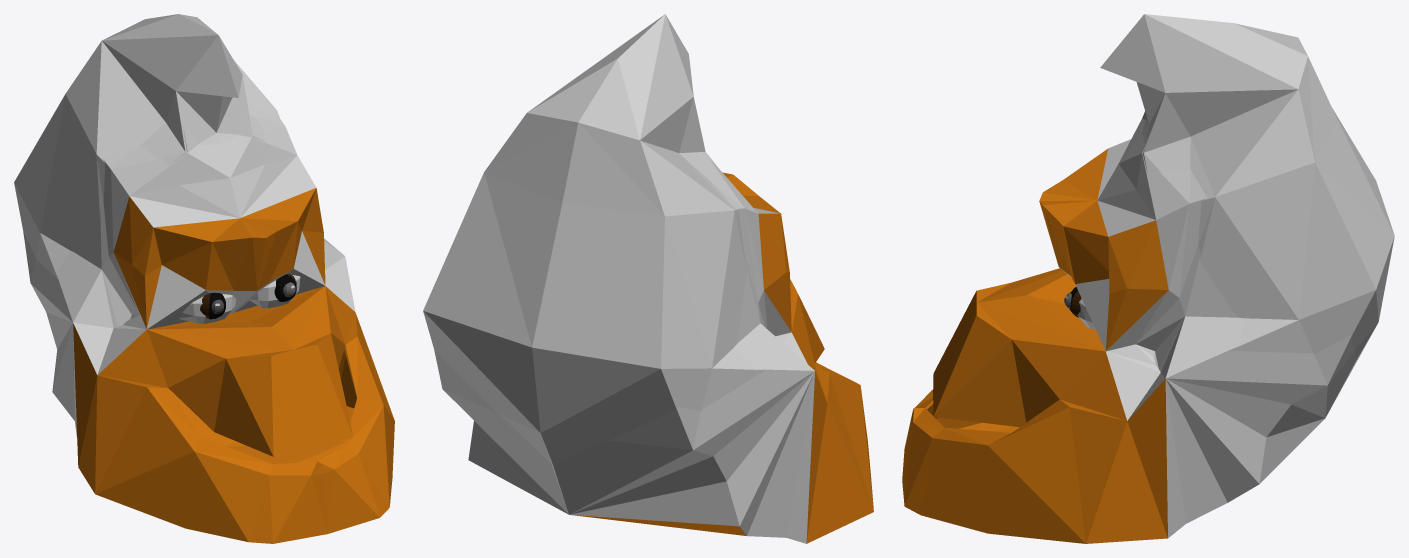
File: DonkeyKongHead.obj
3 views of the same model, side by side, from view 1: azimuth 30°, elevation 25°; view 2: azimuth 150°, elevation 25°; view 3: azimuth 270°, elevation 25° (orthographic). The views are drawn at different scales.
Parts seen in each view (by area): view 1: Plane_Plane.003, Sphere.002_Sphere, Sphere_Sphere.003, Sphere.001_Sphere.004; view 2: Plane_Plane.003; view 3: Plane_Plane.003.
Part boxes in pixels (box(x1,y1,x2,y2)): Plane_Plane.003: box(14, 14, 394, 543); Sphere.002_Sphere: box(200, 274, 296, 319); Sphere_Sphere.003: box(179, 294, 236, 323); Sphere.001_Sphere.004: box(249, 275, 300, 308); Plane_Plane.003: box(423, 14, 873, 543); Plane_Plane.003: box(902, 14, 1394, 543).
Size of the model in its own units: 11.96 by 16.04 by 15.3.
